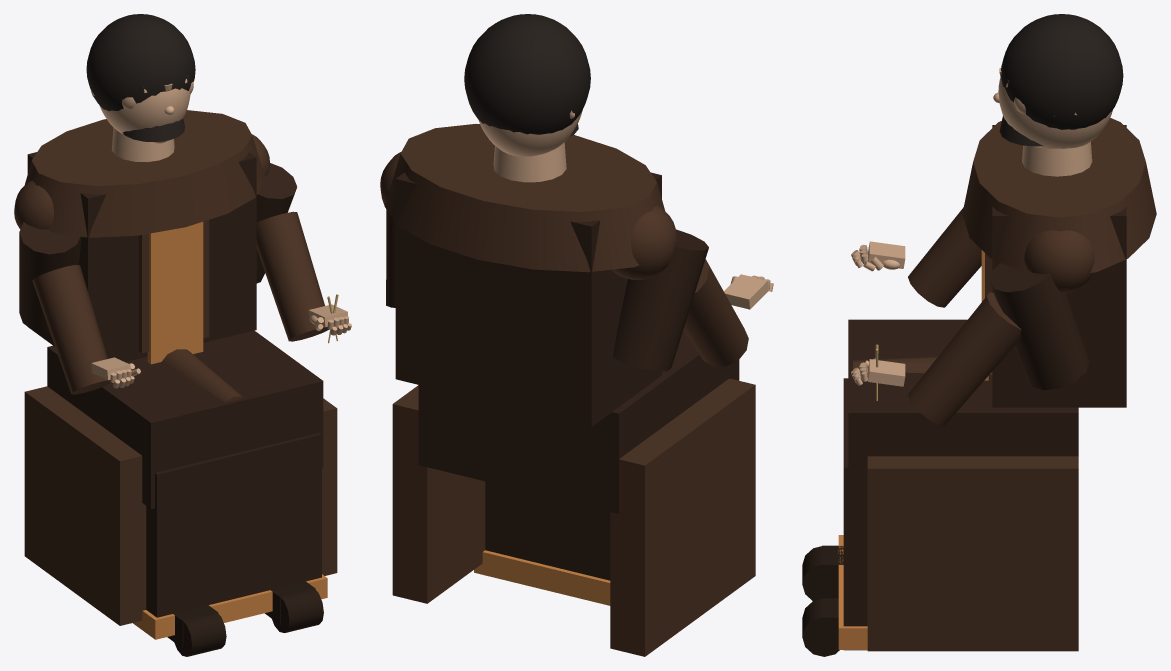
Rendered from adv_architect.glb.
3 views of the same model, side by side, from view 1: azimuth 30°, elevation 25°; view 2: azimuth 150°, elevation 25°; view 3: azimuth 270°, elevation 25° (orthographic). The views are drawn at different scales.
Visible parts, largest first — view 1: LowerBodyRobes, TorsoAssembly, HeadAssembly, RightArmAssembly, Cranium, LeftHand, RightHand; view 2: TorsoAssembly, LowerBodyRobes, HeadAssembly, Cranium, RightArmAssembly, LeftHand; view 3: LowerBodyRobes, TorsoAssembly, RightArmAssembly, HeadAssembly, Cranium, LeftHand, RightHand.
Part boxes in pixels (x1,y1,x2,y2): LowerBodyRobes: [24, 330, 337, 656]; TorsoAssembly: [14, 110, 265, 394]; HeadAssembly: [86, 14, 195, 143]; RightArmAssembly: [252, 134, 338, 343]; Cranium: [100, 88, 190, 134]; LeftHand: [91, 357, 140, 388]; RightHand: [308, 304, 351, 335]; TorsoAssembly: [384, 124, 748, 426]; LowerBodyRobes: [392, 330, 755, 656]; HeadAssembly: [464, 14, 590, 136]; Cranium: [478, 111, 582, 156]; RightArmAssembly: [380, 152, 400, 307]; LeftHand: [724, 274, 773, 309]; LowerBodyRobes: [802, 319, 1078, 656]; TorsoAssembly: [908, 118, 1156, 407]; RightArmAssembly: [875, 230, 1094, 425]; HeadAssembly: [993, 14, 1123, 146]; Cranium: [998, 77, 1112, 148]; LeftHand: [851, 241, 905, 271]; RightHand: [851, 358, 905, 386].
Bounding box in the file's own units: 0.7212 × 1.38 × 0.7385.
